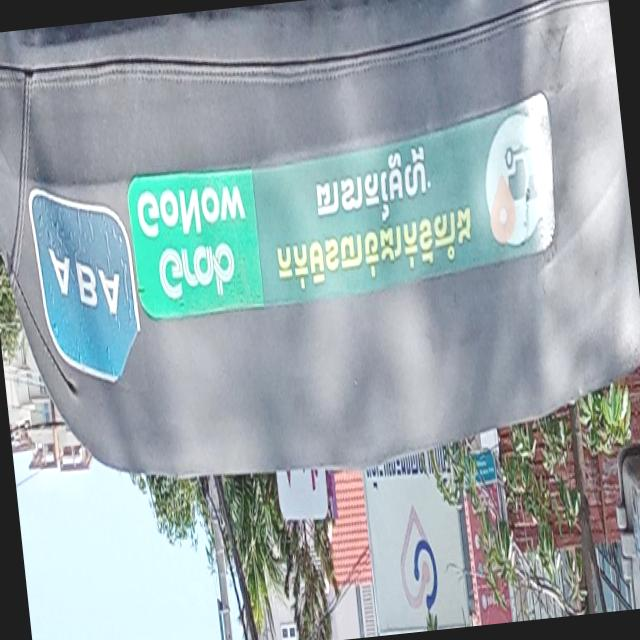Yolov11_80vkh: (270, 202, 485, 309), (285, 119, 465, 236)
